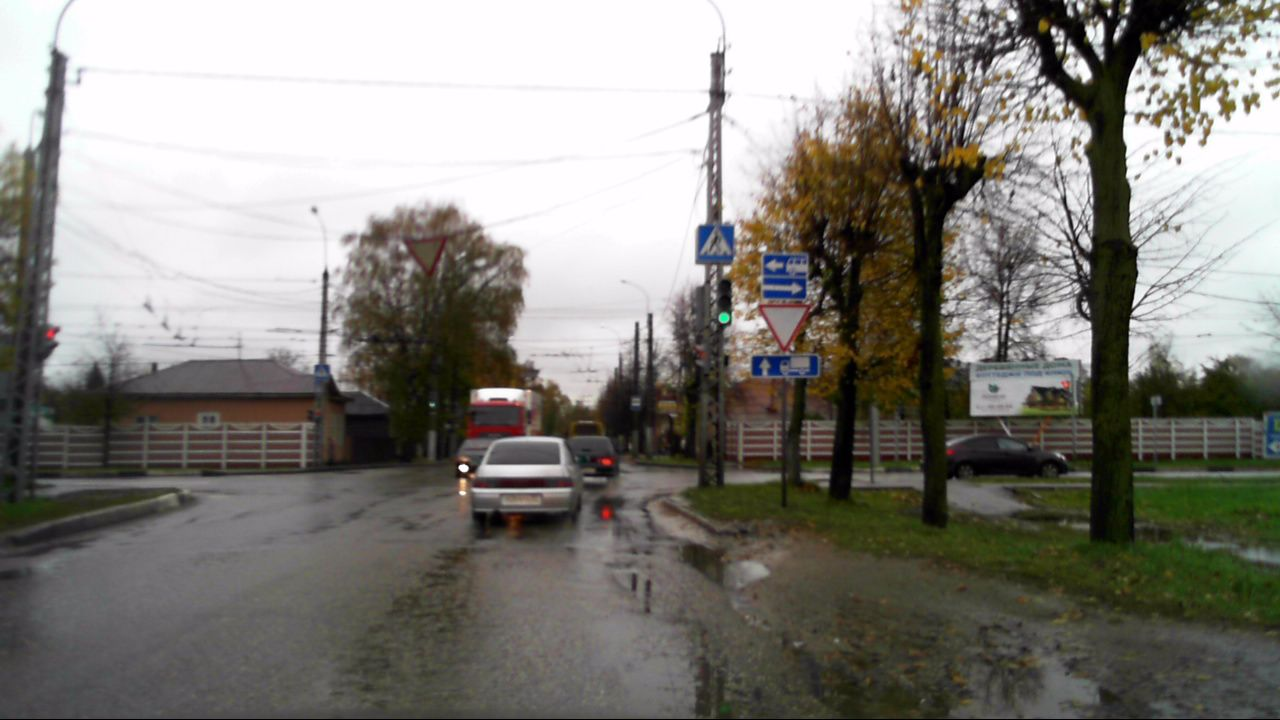One-Way Traffic: (762, 277, 806, 299)
